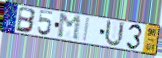3: (124, 23, 144, 51)
5: (36, 9, 54, 37)
B: (15, 6, 38, 34)
I: (82, 17, 91, 44)
M: (57, 13, 82, 42)
U: (103, 19, 126, 48)
